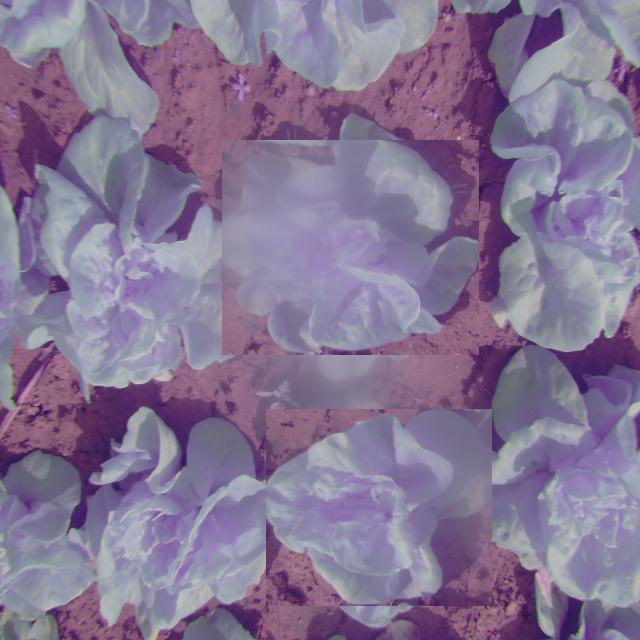vege: (232, 129, 469, 366), (274, 402, 486, 613), (78, 409, 278, 626)
